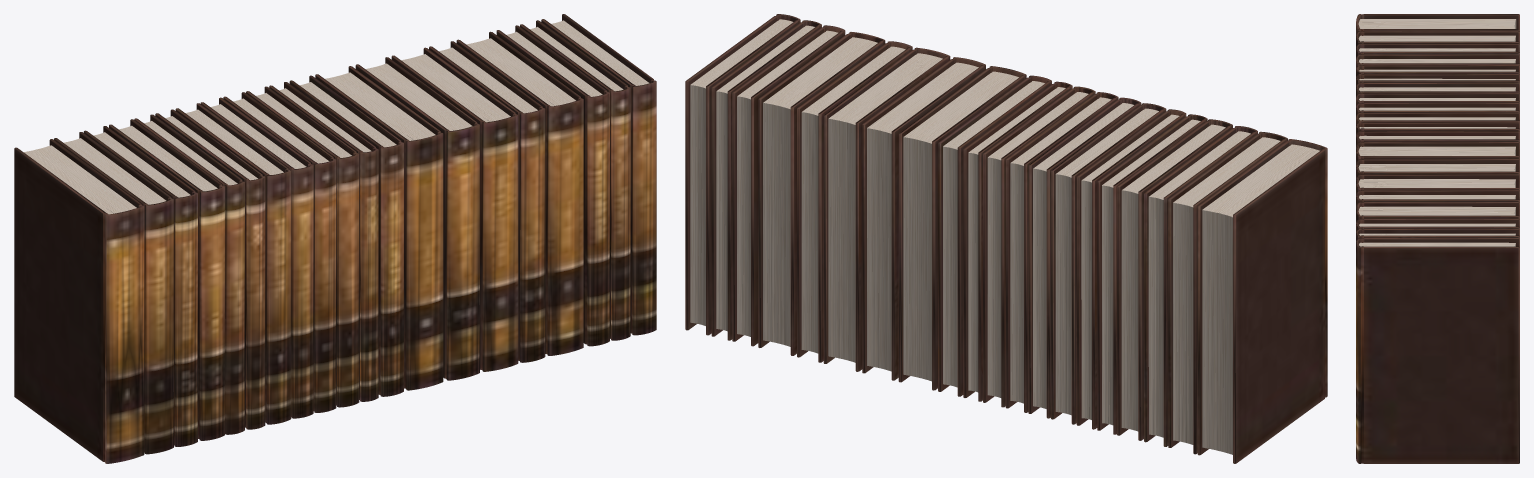
The model's file is books.glb.
3 renders of one model, left to right at view 1: azimuth 30°, elevation 25°; view 2: azimuth 150°, elevation 25°; view 3: azimuth 270°, elevation 25°, orthographic. The views are drawn at different scales.
Visible parts, largest first — view 1: books; view 2: books; view 3: books.
Boxes of the visible parts, bbox=[...] form: books: bbox=[14, 14, 656, 463]; books: bbox=[685, 14, 1327, 463]; books: bbox=[1356, 14, 1519, 463].
Bounding box in the file's own units: 0.6502 × 0.28 × 0.1923.
Materials: 2 (2 with a texture image).
